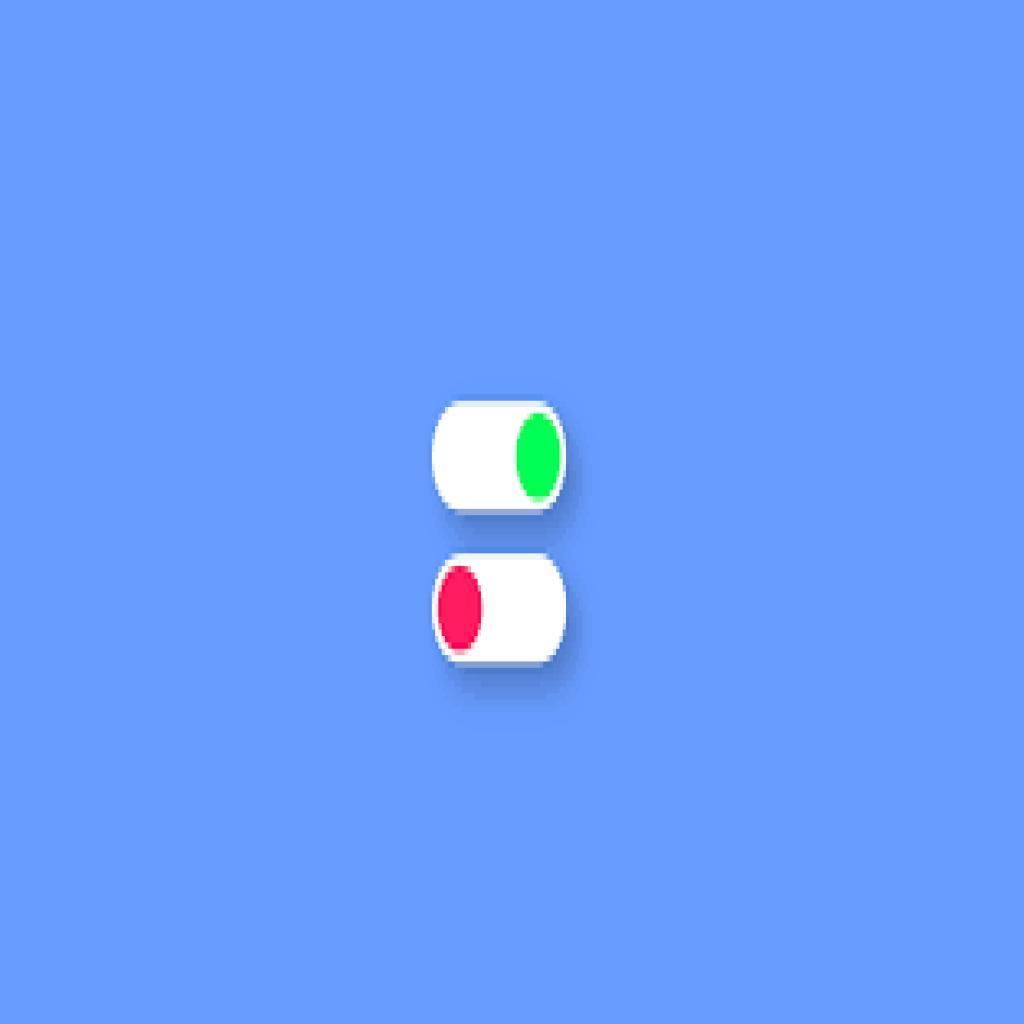switch: (431, 400, 569, 519), (433, 553, 568, 674)
